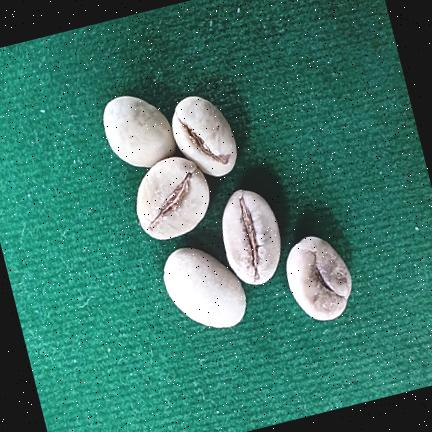immature: (163, 247, 246, 327), (136, 157, 209, 239), (223, 189, 280, 284), (287, 236, 351, 320), (103, 95, 176, 167), (172, 96, 237, 176)
